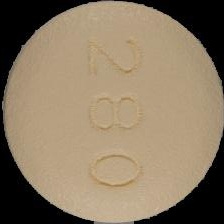33261-480: (0, 0, 224, 224)
